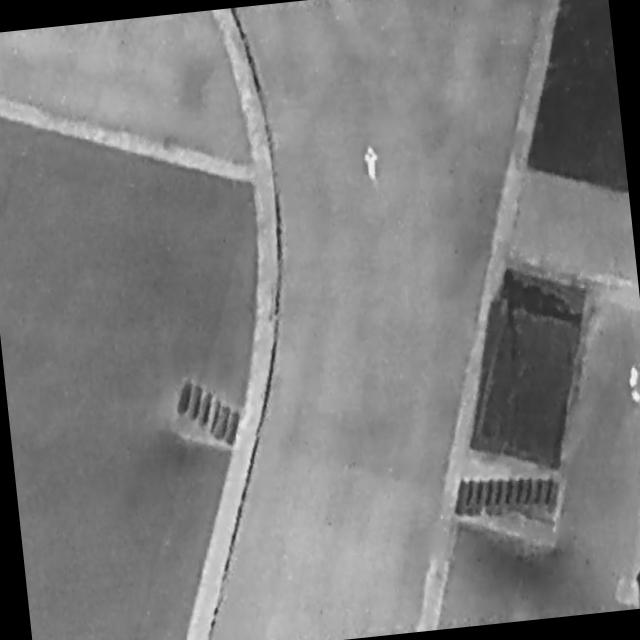person: (363, 143, 382, 182)
